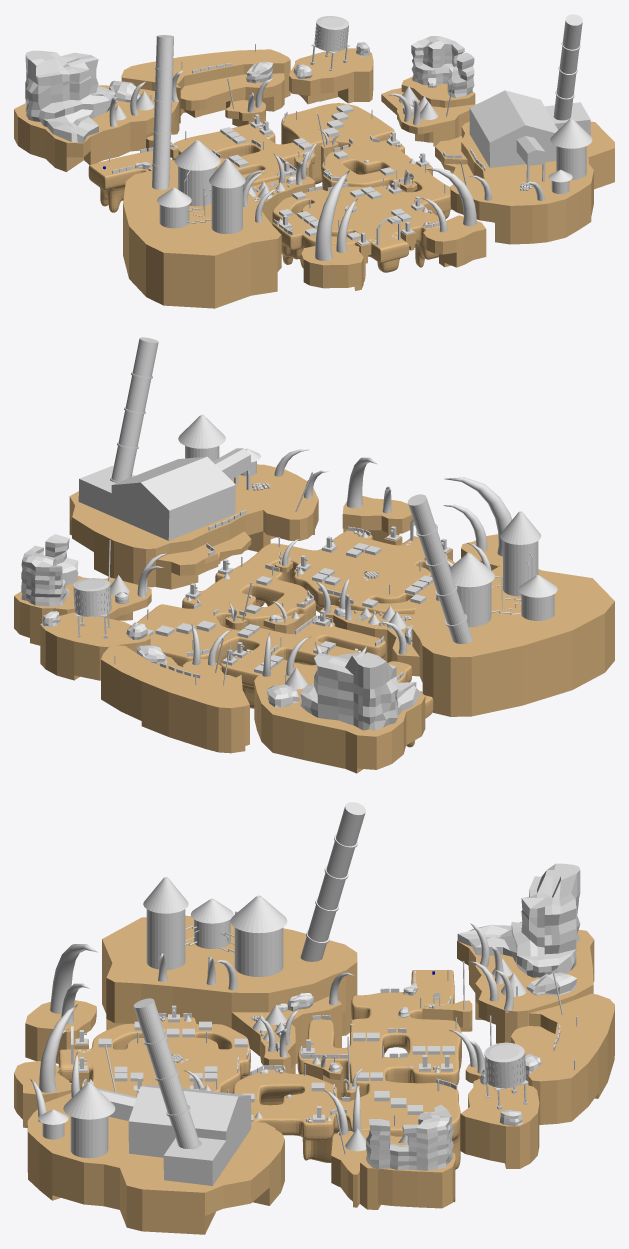
The model's file is Sala3.fbx.
3 views of the same model, one above another, from view 1: azimuth 30°, elevation 25°; view 2: azimuth 150°, elevation 25°; view 3: azimuth 270°, elevation 25° (orthographic). The views are drawn at different scales.
Parts seen in each view (by area): view 1: Base 3-3, Cube.122, Cube.123, Cube.121, Cube.133, Cube.141, Cube.120, Cube.125, Cube.124, Cube.140, Tuberia.006, Cube.131 (+14 smaller); view 2: Cube.122, Base 3-3, Cube.123, Cube.121, Cube.141, Cube.120, Cube.133, Cube.125, Tuberia.006, Cube.140, Tuberia.007, Cube.124 (+10 smaller); view 3: Base 3-3, Cube.122, Cube.123, Cube.121, Cube.141, Cube.133, Cube.124, Cube.125, Cube.120, Cube.140, Tuberia.006, Tubo almacen.014 (+13 smaller).
Boxes of the visible parts, left/top/right/bottom form: Base 3-3: left=88, top=103, right=451, bottom=281; Cube.122: left=123, top=170, right=315, bottom=308; Cube.123: left=435, top=121, right=614, bottom=244; Cube.121: left=121, top=49, right=290, bottom=123; Cube.133: left=25, top=50, right=116, bottom=142; Cube.141: left=469, top=90, right=590, bottom=182; Cube.120: left=14, top=85, right=179, bottom=171; Cube.125: left=289, top=48, right=373, bottom=104; Cube.124: left=381, top=76, right=475, bottom=146; Cube.140: left=411, top=36, right=474, bottom=97; Tuberia.006: left=152, top=35, right=173, bottom=189; Cube.131: left=423, top=215, right=486, bottom=267; Cube.122: left=320, top=564, right=614, bottom=716; Base 3-3: left=137, top=530, right=454, bottom=747; Cube.123: left=69, top=464, right=318, bottom=589; Cube.121: left=101, top=645, right=249, bottom=753; Cube.141: left=78, top=448, right=250, bottom=540; Cube.120: left=254, top=669, right=425, bottom=773; Cube.133: left=300, top=652, right=420, bottom=730; Cube.125: left=40, top=612, right=150, bottom=680; Tuberia.006: left=407, top=494, right=472, bottom=643; Cube.140: left=21, top=534, right=78, bottom=606; Tuberia.007: left=110, top=337, right=158, bottom=482; Cube.124: left=14, top=575, right=151, bottom=645; Base 3-3: left=58, top=970, right=461, bottom=1169; Cube.122: left=102, top=915, right=357, bottom=1073; Cube.123: left=27, top=1085, right=284, bottom=1234; Cube.121: left=511, top=993, right=614, bottom=1124; Cube.141: left=97, top=1085, right=251, bottom=1185; Cube.133: left=457, top=863, right=580, bottom=977; Cube.124: left=331, top=1130, right=455, bottom=1209; Cube.125: left=460, top=1079, right=539, bottom=1168; Cube.120: left=457, top=929, right=594, bottom=1043; Cube.140: left=366, top=1104, right=453, bottom=1170; Tuberia.006: left=300, top=802, right=365, bottom=961; Tubo almacen.014: left=230, top=895, right=287, bottom=976.
Size of the model in its own units: 44880 by 49146 by 19885.
